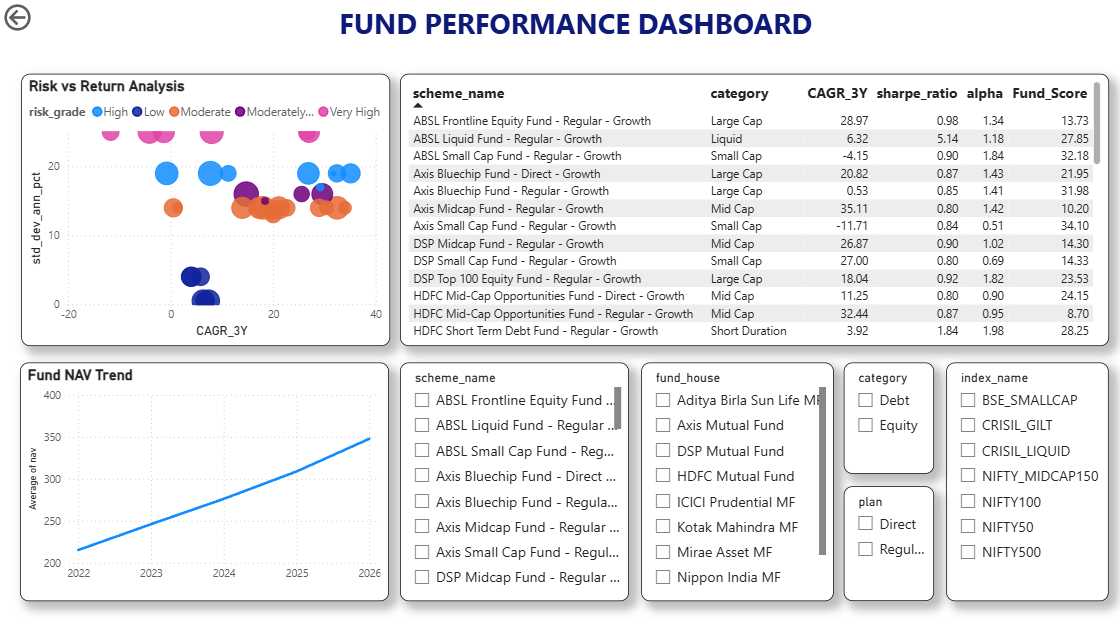

Layout of this report page (visuals, bound fields, positions):
{"tool":"powerbi","page":{"name":"Fund Performance","canvas":[1280,720],"ordinal":1},"visuals":[{"type":"scatterChart","title":"Risk vs Return Analysis","fields":{"X":["performance_metrics.CAGR_3Y"],"Size":["Avg(performance_metrics.aum_crore)"],"Y":["performance_metrics.std_dev_ann_pct"],"Series":["performance_metrics.risk_grade"]},"box":[23.8,83.8,421.2,311.2],"z":0},{"type":"tableEx","fields":{"Values":["performance_metrics.scheme_name","performance_metrics.category","performance_metrics.CAGR_3Y","performance_metrics.sharpe_ratio","performance_metrics.alpha","performance_metrics.Fund_Score"]},"box":[457.1,84.3,810,311.4],"z":1000},{"type":"lineChart","title":"Fund NAV Trend","fields":{"Category":["clean_nav_history.date.Variation.Date Hierarchy.Year","clean_nav_history.date.Variation.Date Hierarchy.Quarter","clean_nav_history.date.Variation.Date Hierarchy.Month","clean_nav_history.date.Variation.Date Hierarchy.Day"],"Y":["Avg(clean_nav_history.nav)"]},"box":[22.9,414.3,421.4,272.9],"z":2000},{"type":"slicer","fields":{"Values":["01_fund_master.scheme_name"]},"box":[457.1,414.3,261.4,272.9],"z":3000},{"type":"slicer","fields":{"Values":["10_benchmark_indices.index_name"]},"box":[1081.4,414.3,185.7,272.9],"z":4000},{"type":"textbox","box":[300,0,716,66],"z":5000},{"type":"slicer","fields":{"Values":["01_fund_master.fund_house"]},"box":[732.9,414.3,220,272.9],"z":6000},{"type":"slicer","fields":{"Values":["01_fund_master.category"]},"box":[964.3,414.3,102.9,127.1],"z":7000},{"type":"slicer","fields":{"Values":["01_fund_master.plan"]},"box":[964.3,555.7,102.9,131.4],"z":8000},{"type":"actionButton","box":[0,0,100,40],"z":9000}]}

Visuals, with their boxes in screenshot pixels (x1, y1, x2, y2), scaled from the page's 1280x720 canvas onto the 1120x628 screenshot:
"Risk vs Return Analysis" scatterChart: x1=21, y1=73, x2=389, y2=345
tableEx - performance_metrics.scheme_name x performance_metrics.category: x1=400, y1=74, x2=1109, y2=345
"Fund NAV Trend" lineChart: x1=20, y1=361, x2=389, y2=599
slicer - 01_fund_master.scheme_name: x1=400, y1=361, x2=629, y2=599
slicer - 10_benchmark_indices.index_name: x1=946, y1=361, x2=1109, y2=599
textbox: x1=262, y1=0, x2=889, y2=58
slicer - 01_fund_master.fund_house: x1=641, y1=361, x2=834, y2=599
slicer - 01_fund_master.category: x1=844, y1=361, x2=934, y2=472
slicer - 01_fund_master.plan: x1=844, y1=485, x2=934, y2=599
actionButton: x1=0, y1=0, x2=88, y2=35
